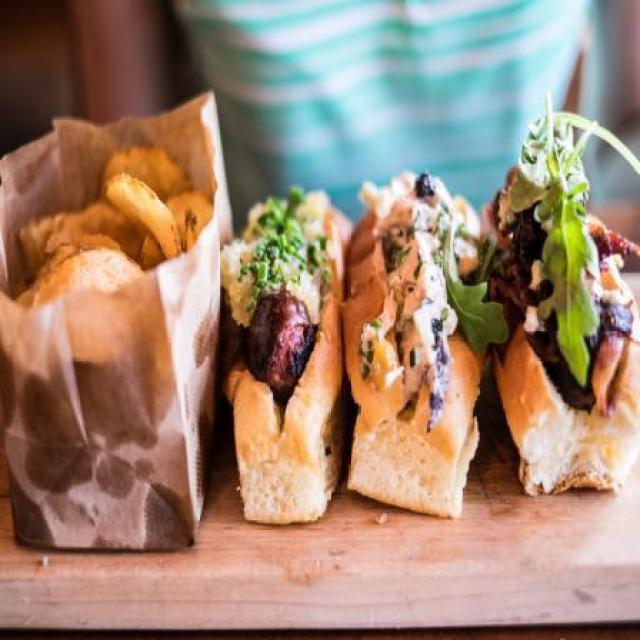Sandwich: (482, 88, 639, 494), (337, 167, 490, 516), (220, 185, 354, 520)
